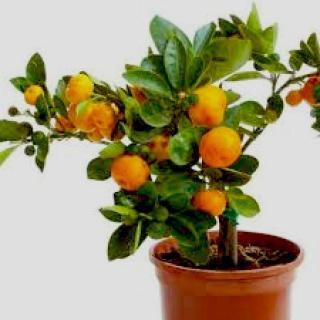orange: (180, 83, 228, 137), (194, 122, 247, 170), (97, 154, 148, 202), (79, 98, 129, 142)
